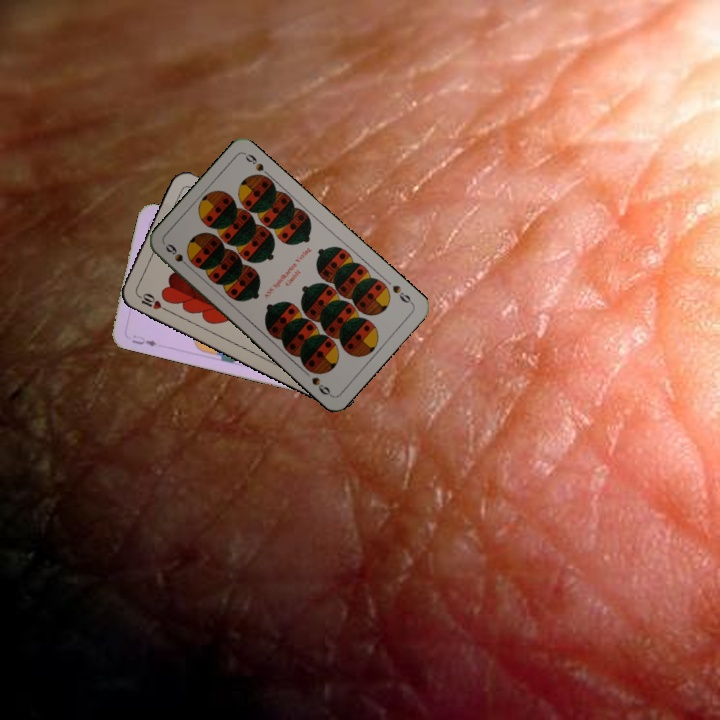EU: (128, 331, 159, 349)
H10: (133, 289, 170, 314)
S9: (161, 240, 194, 272), (388, 281, 416, 307)
